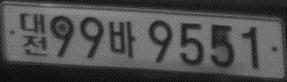1: (240, 26, 265, 69)
5: (177, 22, 204, 66), (209, 24, 234, 67)
9: (49, 14, 74, 57), (148, 19, 173, 62), (79, 16, 104, 58)
대전_V: (19, 12, 48, 56)
바: (108, 21, 136, 58)
